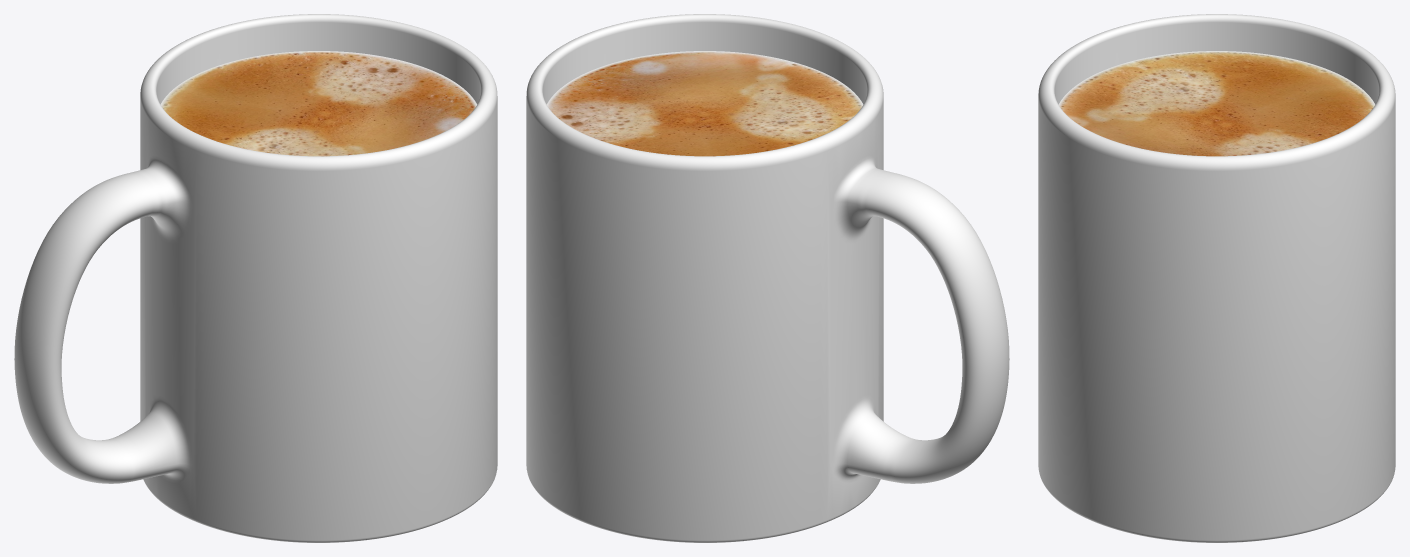
3 views of the same model, side by side, from view 1: azimuth 30°, elevation 25°; view 2: azimuth 150°, elevation 25°; view 3: azimuth 270°, elevation 25° (orthographic).
Parts seen in each view (by area): view 1: Coffee-Mug; view 2: Coffee-Mug; view 3: Coffee-Mug.
Part boxes in pixels (box(x1,y1,x2,y2)): Coffee-Mug: box(14, 14, 497, 542); Coffee-Mug: box(526, 14, 1009, 542); Coffee-Mug: box(1038, 14, 1395, 542).
Bounding box in the file's own units: 11.99 × 9.7 × 8.2.
6 materials, 2 textured.
